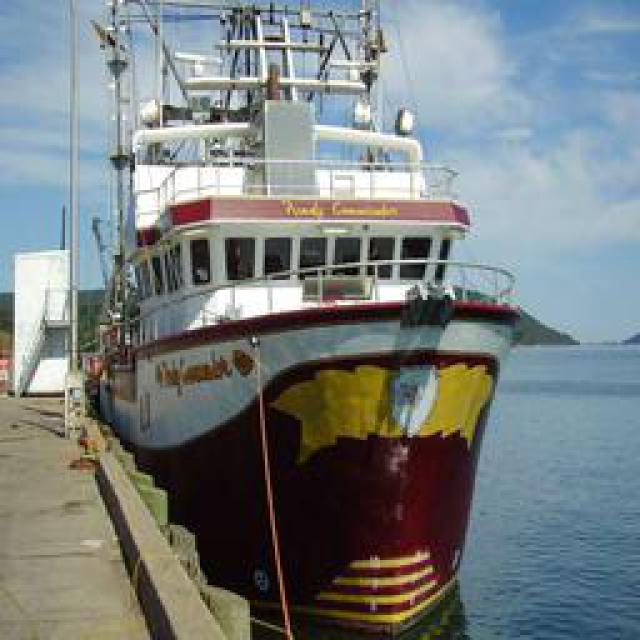Ship: (92, 18, 525, 626)
